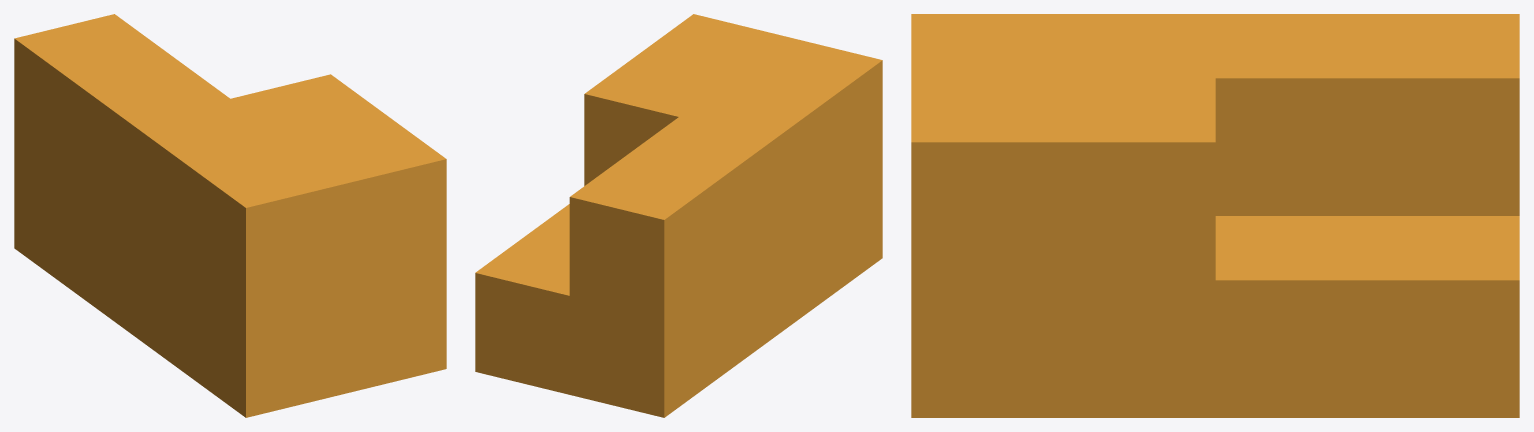
The model's file is penguin__leg_r.glb.
3 renders of one model, left to right at view 1: azimuth 30°, elevation 25°; view 2: azimuth 150°, elevation 25°; view 3: azimuth 270°, elevation 25°, orthographic. The views are drawn at different scales.
Visible parts, largest first — view 1: penguin__leg_r; view 2: penguin__leg_r; view 3: penguin__leg_r.
Boxes of the visible parts, x1,y1,x2,y2 form: penguin__leg_r: [14, 14, 446, 417]; penguin__leg_r: [475, 14, 882, 417]; penguin__leg_r: [911, 14, 1519, 417].
Bounding box in the file's own units: 0.2 × 0.2 × 0.4.
1 material, 1 textured.
